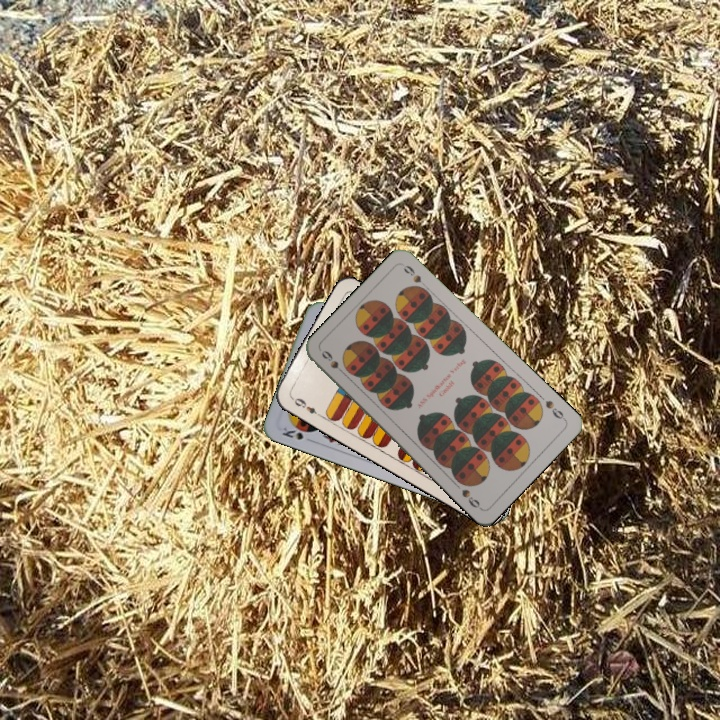E9: (287, 392, 324, 420)
S9: (317, 346, 350, 379), (541, 396, 569, 424)
SK: (278, 423, 313, 442)
